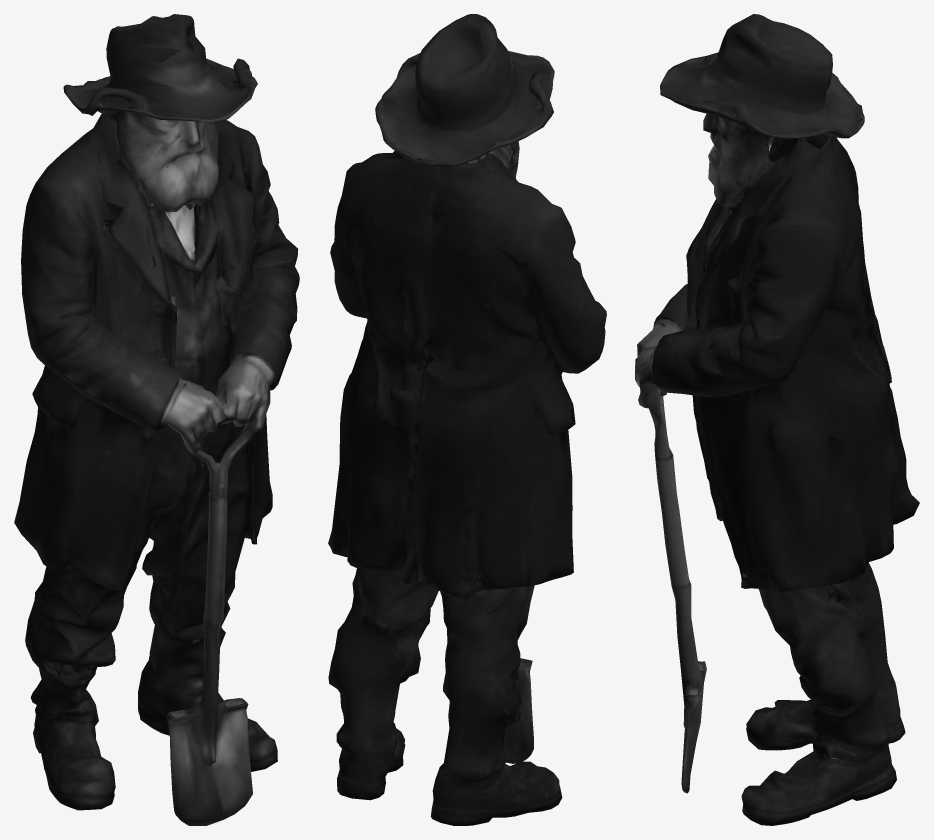
Rendered from silas_crowe_ghost.glb.
The picture shows the model from 3 angles, left to right: view 1: azimuth 30°, elevation 25°; view 2: azimuth 150°, elevation 25°; view 3: azimuth 270°, elevation 25°; orthographic projection. The views are drawn at different scales.
Visible parts, largest first — view 1: RETOPO; view 2: RETOPO; view 3: RETOPO.
Boxes of the visible parts, x1,y1,x2,y2 form: RETOPO: (14, 14, 299, 825); RETOPO: (328, 14, 606, 825); RETOPO: (635, 14, 919, 825).
Bounding box in the file's own units: 0.6752 × 1.9 × 0.6422.
Materials: 1 (1 with a texture image).
